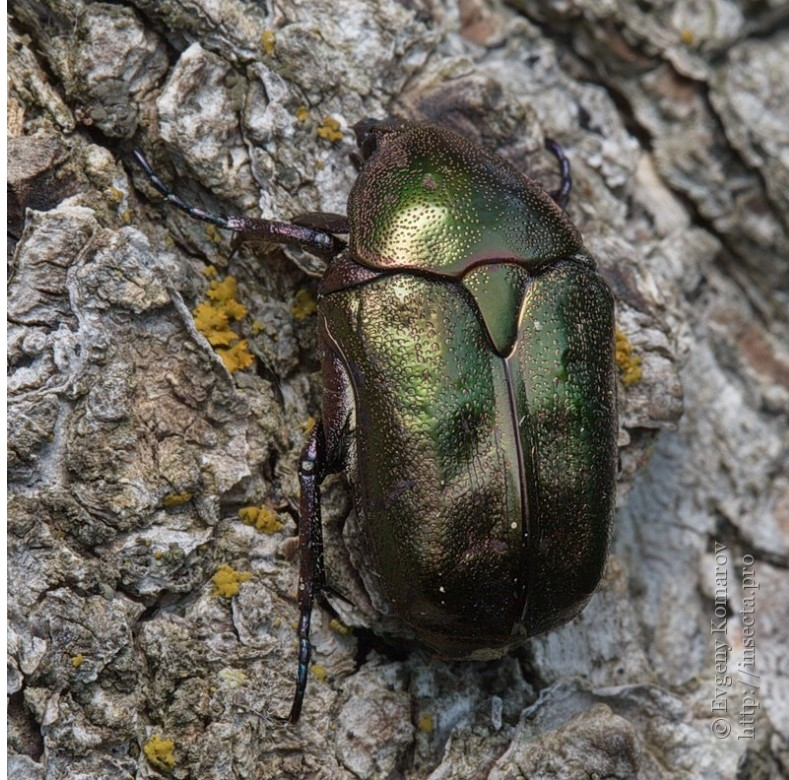Protaetia_metallica: (119, 101, 637, 749)
